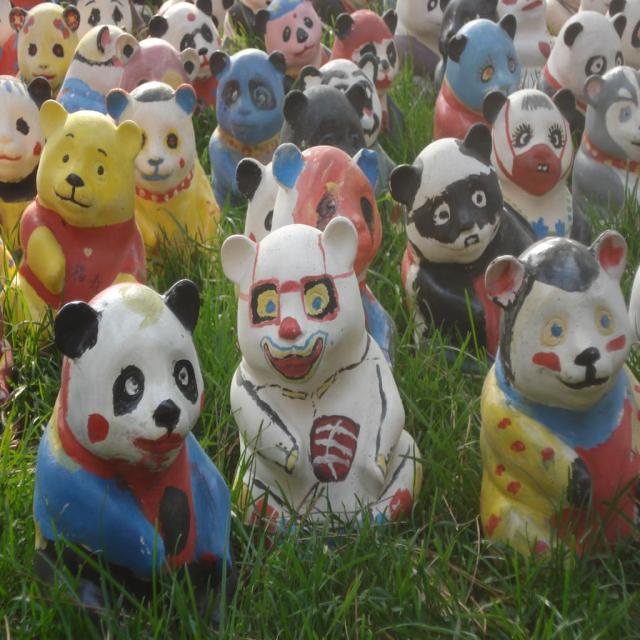panda: (25, 278, 234, 639), (389, 125, 533, 368), (208, 49, 285, 216), (537, 11, 626, 140), (0, 72, 54, 276), (143, 0, 224, 113), (277, 80, 367, 162), (232, 152, 279, 247)
